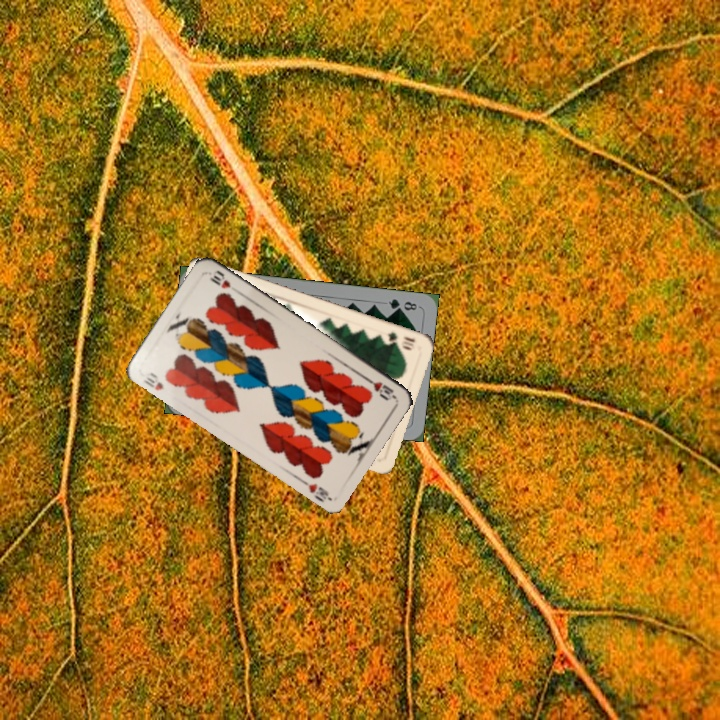G10: (384, 328, 417, 352)
G8: (384, 295, 420, 313)
H10: (361, 373, 398, 401), (139, 368, 166, 393)
